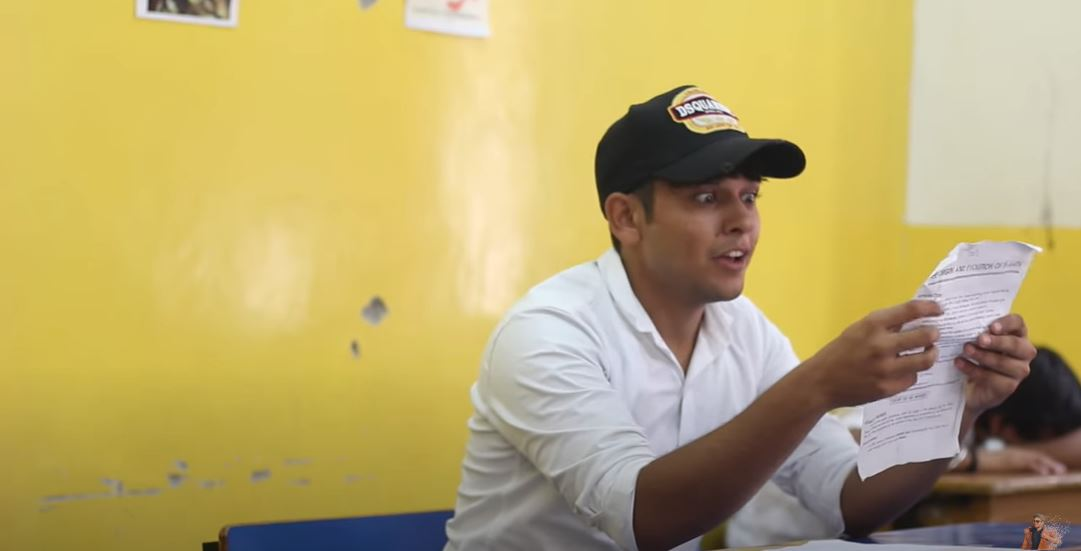chit: (839, 256, 1042, 488)
student: (541, 89, 821, 407)
